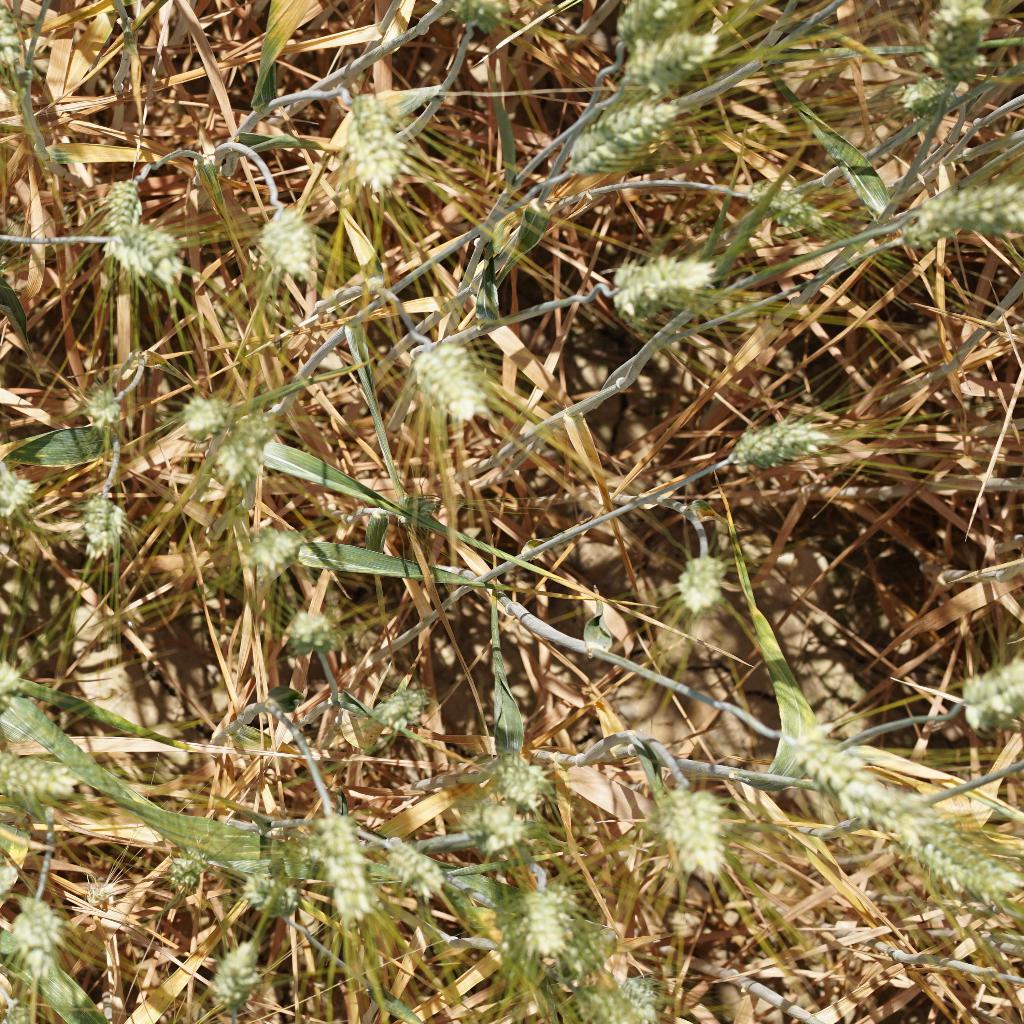0-0: (911, 814, 1024, 916), (564, 97, 683, 182), (901, 182, 1024, 263), (299, 799, 380, 919), (733, 168, 852, 247), (407, 325, 492, 432), (657, 774, 742, 881), (735, 397, 836, 479), (339, 86, 403, 202), (365, 662, 451, 748), (610, 251, 712, 322), (79, 216, 187, 283), (257, 187, 329, 286), (198, 406, 288, 485), (613, 29, 717, 96), (567, 953, 661, 1024), (837, 777, 927, 847), (198, 934, 273, 1016), (0, 746, 92, 810), (6, 888, 70, 980), (957, 650, 1024, 737), (915, 0, 991, 74), (231, 516, 303, 593), (512, 873, 570, 967), (231, 858, 309, 927), (468, 733, 553, 796), (78, 862, 145, 937), (665, 541, 728, 617), (382, 828, 447, 901), (157, 832, 227, 897), (279, 604, 352, 666), (71, 489, 130, 563), (788, 731, 863, 787), (609, 0, 699, 45), (462, 788, 530, 845), (100, 169, 156, 234), (897, 66, 961, 120), (176, 385, 232, 444), (0, 840, 41, 918), (77, 391, 137, 440), (0, 466, 51, 523), (0, 658, 34, 732), (0, 0, 22, 81)
